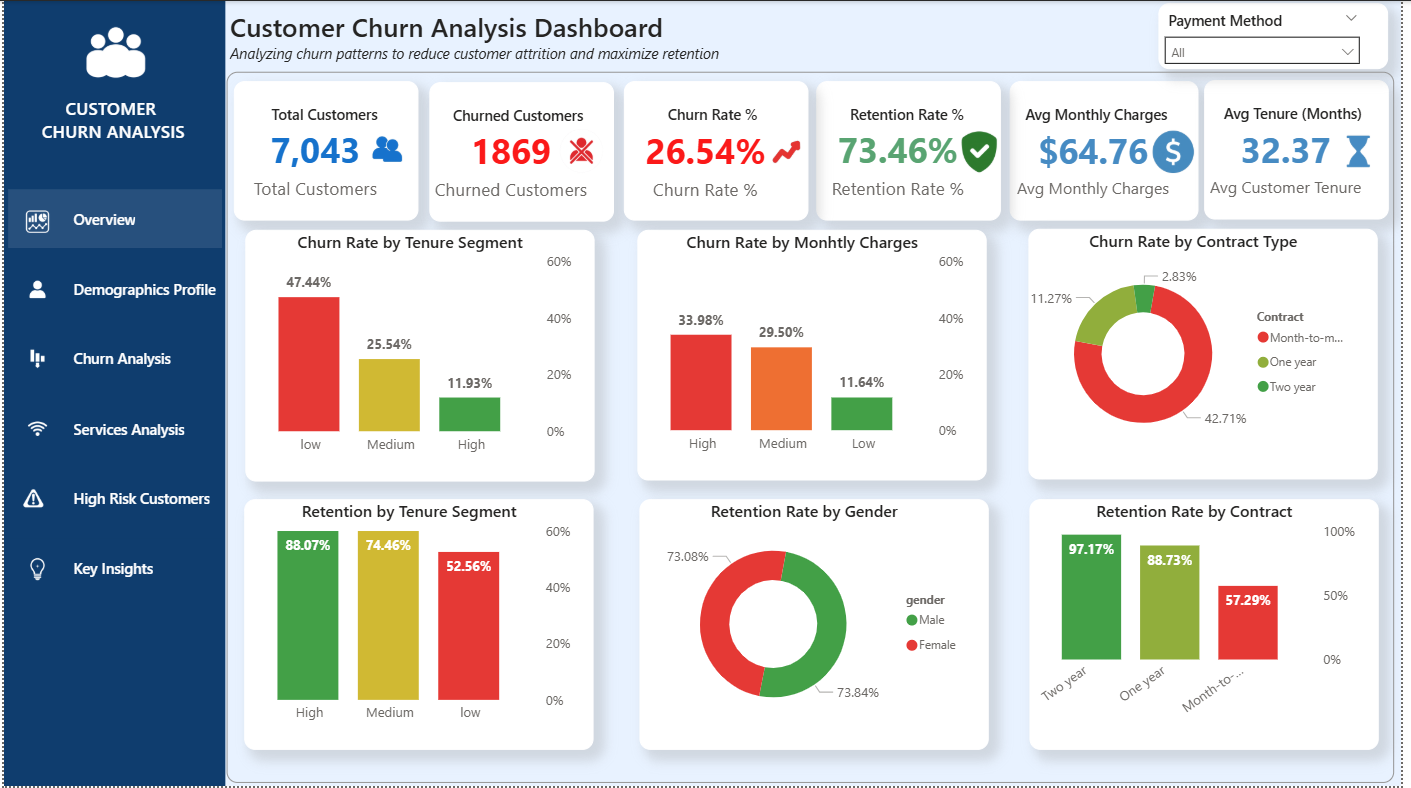

The dashboard page shown, as its layout file describes it:
{"tool":"powerbi","page":{"name":"Overview","canvas":[1280,720],"ordinal":0},"visuals":[{"type":"shape","title":"Menu BG","box":[0,0,203,720],"z":0},{"type":"pageNavigator","title":"Menu Buttons","box":[3.3,172.5,196,378.3],"z":1000},{"type":"image","box":[3.3,186.9,53.4,31.1],"z":2000},{"type":"image","box":[3.3,249.3,53.4,31.1],"z":3000},{"type":"image","box":[3.3,312.7,53.4,31.1],"z":4000},{"type":"image","box":[3.3,376.1,53.4,31.1],"z":5000},{"type":"image","box":[0,440.6,53.4,31.1],"z":6000},{"type":"image","box":[3.3,505.2,53.4,31.1],"z":7000},{"type":"image","box":[40.1,0,124.6,94.6],"z":8000},{"type":"textbox","box":[0,82.3,200.3,55.6],"z":9000},{"type":"textbox","box":[201.8,2.1,470.2,72.8],"z":11000},{"type":"shape","box":[203.9,64.5,1070.5,652.3],"z":12000},{"type":"card","title":"    Total Customers","fields":{"Values":["public customer_churn.Total Customers"]},"box":[211,73.4,169.7,127.7],"z":13000},{"type":"card","title":" Avg Monthly Charges","fields":{"Values":["public customer_churn.Average Monthly Charges"]},"box":[921.8,73.4,173,127.7],"z":14000},{"type":"card","title":"    Retention Rate %","fields":{"Values":["public customer_churn.Retention Rate %"]},"box":[744.5,73.4,169.7,127.7],"z":15000},{"type":"card","title":"   Avg Tenure (Months)","fields":{"Values":["public customer_churn.Average Tenure"]},"box":[1100,72.4,169.7,127.7],"z":16000},{"type":"card","title":"   Churned Customers","fields":{"Values":["public customer_churn.Churned Customers"]},"box":[389.9,74.4,169.7,127.7],"z":17000},{"type":"card","title":"   Churn Rate  %","fields":{"Values":["public customer_churn.Churn Rate"]},"box":[568.1,73.4,169.7,127.7],"z":18000},{"type":"image","box":[502.4,97.8,54.6,59.7],"z":19000},{"type":"image","box":[689.8,98.8,54.6,59.7],"z":20000},{"type":"image","box":[866.8,98.8,54.6,59.7],"z":21000},{"type":"image","box":[1044.7,99.1,54.3,59.1],"z":22000},{"type":"image","box":[1214.4,98.2,54.3,60],"z":23000},{"type":"image","box":[324.1,96.3,54.3,60],"z":24000},{"type":"columnChart","title":"Churn Rate by Tenure  Segment ","fields":{"Y":["public customer_churn.Churn Rate %"],"Category":["public customer_churn.tenure_segment"]},"box":[221.1,209.7,320.3,230.7],"z":25000},{"type":"columnChart","title":"Churn Rate by Monhtly Charges","fields":{"Y":["public customer_churn.Churn Rate %"],"Category":["public customer_churn.monthly_charges_segment"]},"box":[580.5,209.7,320.3,229.7],"z":26000},{"type":"donutChart","title":"Churn Rate by Contract Type","fields":{"Y":["public customer_churn.Churn Rate %"],"Category":["public customer_churn.Contract"]},"box":[938.9,208.8,320.3,230],"z":27000},{"type":"columnChart","title":"Retention by Tenure  Segment ","fields":{"Y":["public customer_churn.Retention Rate %"],"Category":["public customer_churn.tenure_segment"]},"box":[220,456.6,320.3,230],"z":28000},{"type":"donutChart","title":"Retention Rate by Gender","fields":{"Category":["public customer_churn.gender"],"Y":["public customer_churn.Retention Rate %"]},"box":[582.4,456.6,320.3,229.7],"z":29000},{"type":"columnChart","title":"Retention Rate by Contract","fields":{"Category":["public customer_churn.Contract"],"Y":["public customer_churn.Retention Rate %"]},"box":[939.9,456.6,320.3,230],"z":30000},{"type":"slicer","fields":{"Values":["public customer_churn.payment_method"]},"box":[1058.1,1.9,210.7,61],"z":31000}]}

Visuals, with their boxes in screenshot pixels (x1, y1, x2, y2), scaled from the page's 1280x720 canvas onto the 1411x788 screenshot:
"Menu BG" shape: (left=0, top=0, right=224, bottom=787)
"Menu Buttons" pageNavigator: (left=4, top=189, right=220, bottom=603)
image: (left=4, top=205, right=63, bottom=239)
image: (left=4, top=273, right=63, bottom=307)
image: (left=4, top=342, right=63, bottom=376)
image: (left=4, top=412, right=63, bottom=446)
image: (left=0, top=482, right=59, bottom=516)
image: (left=4, top=553, right=63, bottom=587)
image: (left=44, top=0, right=182, bottom=104)
textbox: (left=0, top=90, right=221, bottom=151)
textbox: (left=222, top=2, right=741, bottom=82)
shape: (left=225, top=71, right=1405, bottom=784)
"    Total Customers" card: (left=233, top=80, right=420, bottom=220)
" Avg Monthly Charges" card: (left=1016, top=80, right=1207, bottom=220)
"    Retention Rate %" card: (left=821, top=80, right=1008, bottom=220)
"   Avg Tenure (Months)" card: (left=1213, top=79, right=1400, bottom=219)
"   Churned Customers" card: (left=430, top=81, right=617, bottom=221)
"   Churn Rate  %" card: (left=626, top=80, right=813, bottom=220)
image: (left=554, top=107, right=614, bottom=172)
image: (left=760, top=108, right=821, bottom=173)
image: (left=956, top=108, right=1016, bottom=173)
image: (left=1152, top=108, right=1211, bottom=173)
image: (left=1339, top=107, right=1399, bottom=173)
image: (left=357, top=105, right=417, bottom=171)
"Churn Rate by Tenure  Segment " columnChart: (left=244, top=230, right=597, bottom=482)
"Churn Rate by Monhtly Charges" columnChart: (left=640, top=230, right=993, bottom=481)
"Churn Rate by Contract Type" donutChart: (left=1035, top=229, right=1388, bottom=480)
"Retention by Tenure  Segment " columnChart: (left=243, top=500, right=596, bottom=751)
"Retention Rate by Gender" donutChart: (left=642, top=500, right=995, bottom=751)
"Retention Rate by Contract" columnChart: (left=1036, top=500, right=1389, bottom=751)
slicer - public customer_churn.payment_method: (left=1166, top=2, right=1399, bottom=69)
